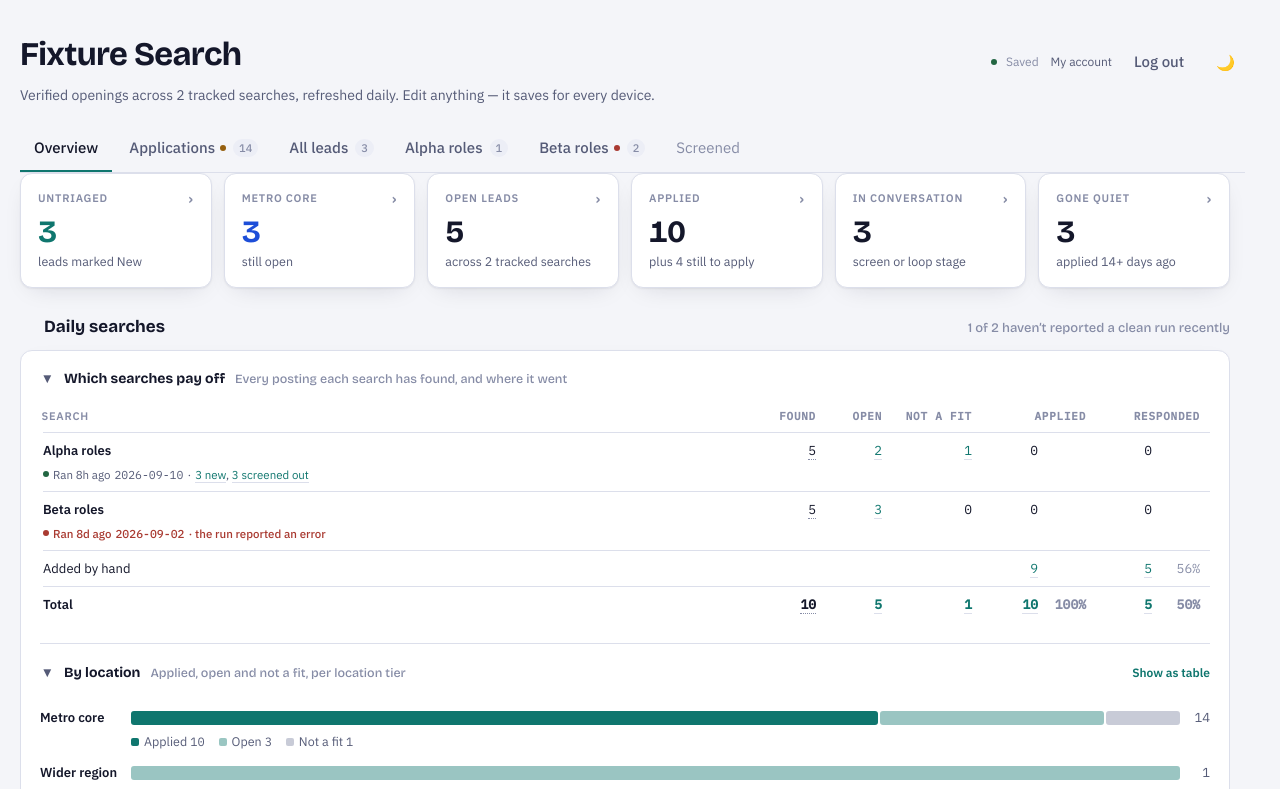
it: the theme toggle › keeps icon and label agreeing after it is pressed
Expected: the heading "Fixture Search" is shown, x1=20 y1=34 x2=241 y2=74
Click the button "🌙" at (1226, 62), box x1=1206 y1=48 x2=1245 y2=76
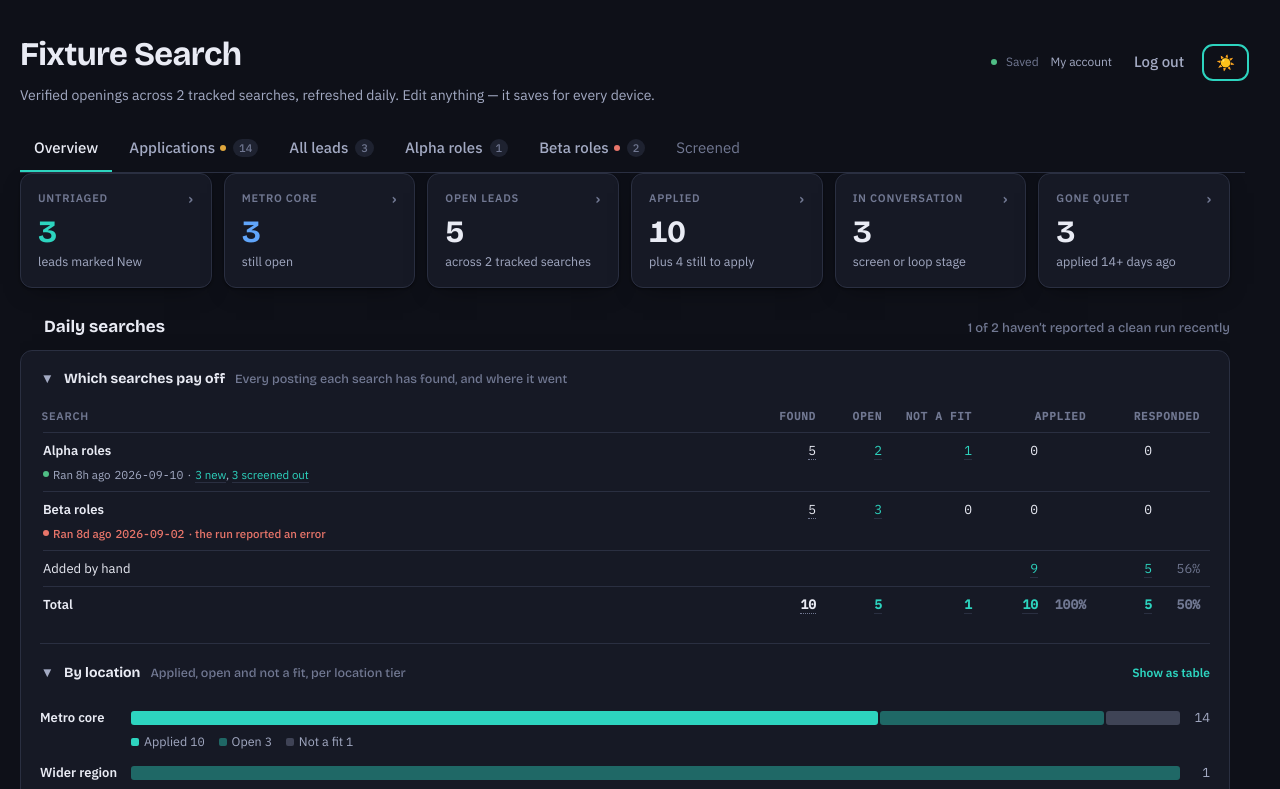
Expected: the button "☀️" is shown, x1=1206 y1=48 x2=1245 y2=76
